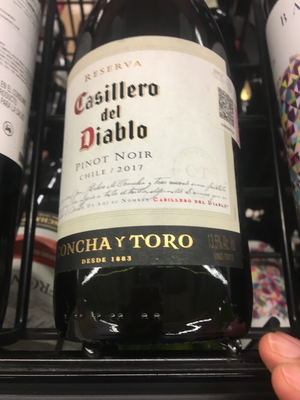casillero del diablo pinot noir: (55, 6, 250, 345)
